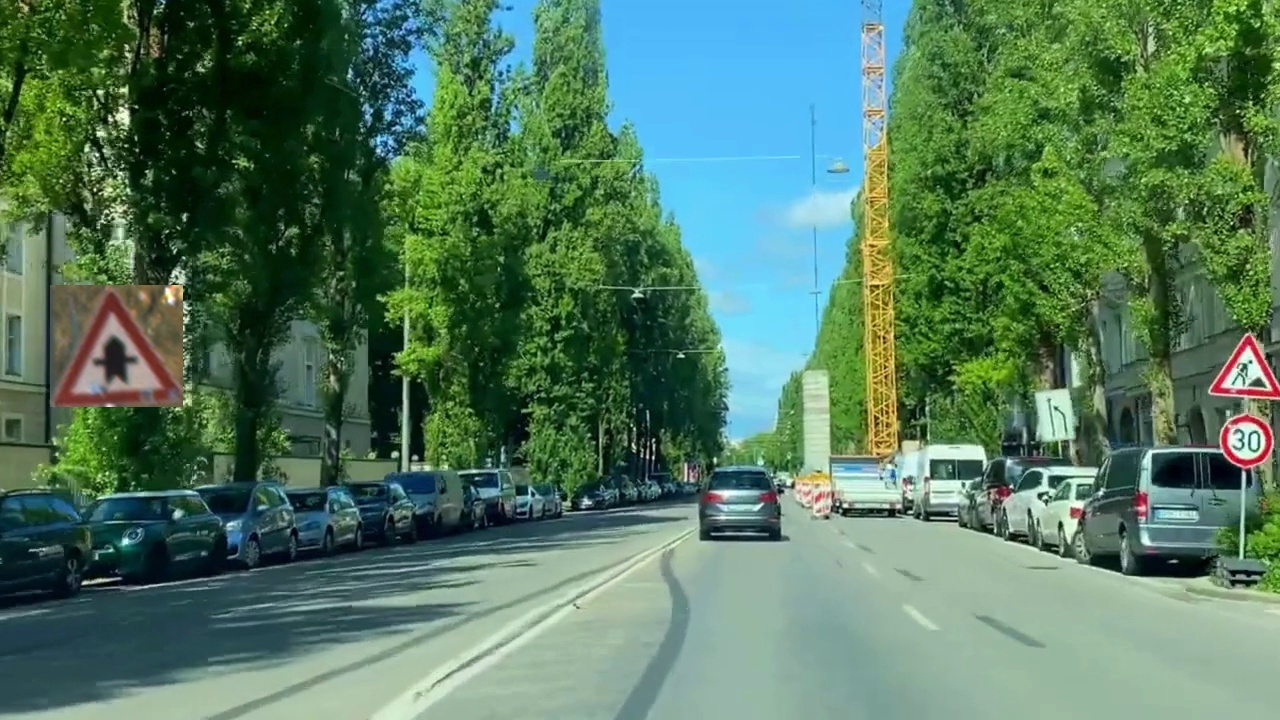Right-of-way: (50, 285, 183, 407)
